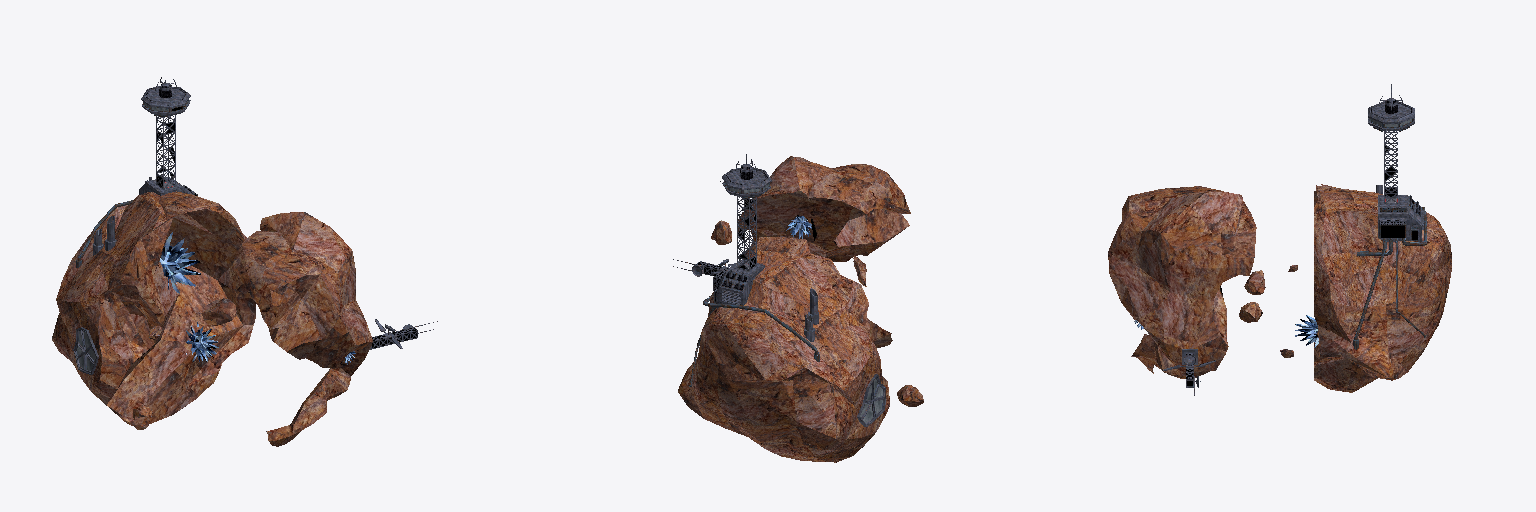
The picture shows the model from 3 angles: view 1: azimuth 30°, elevation 25°; view 2: azimuth 150°, elevation 25°; view 3: azimuth 270°, elevation 25°; orthographic projection.
Visible parts, largest first — view 1: station; view 2: station; view 3: station.
Boxes of the visible parts, x1,y1,x2,y2 form: station: [52, 77, 437, 446]; station: [673, 154, 923, 462]; station: [1108, 84, 1451, 395].
Size of the model in its own units: 192 by 214 by 203.
1 materials, 1 textured.